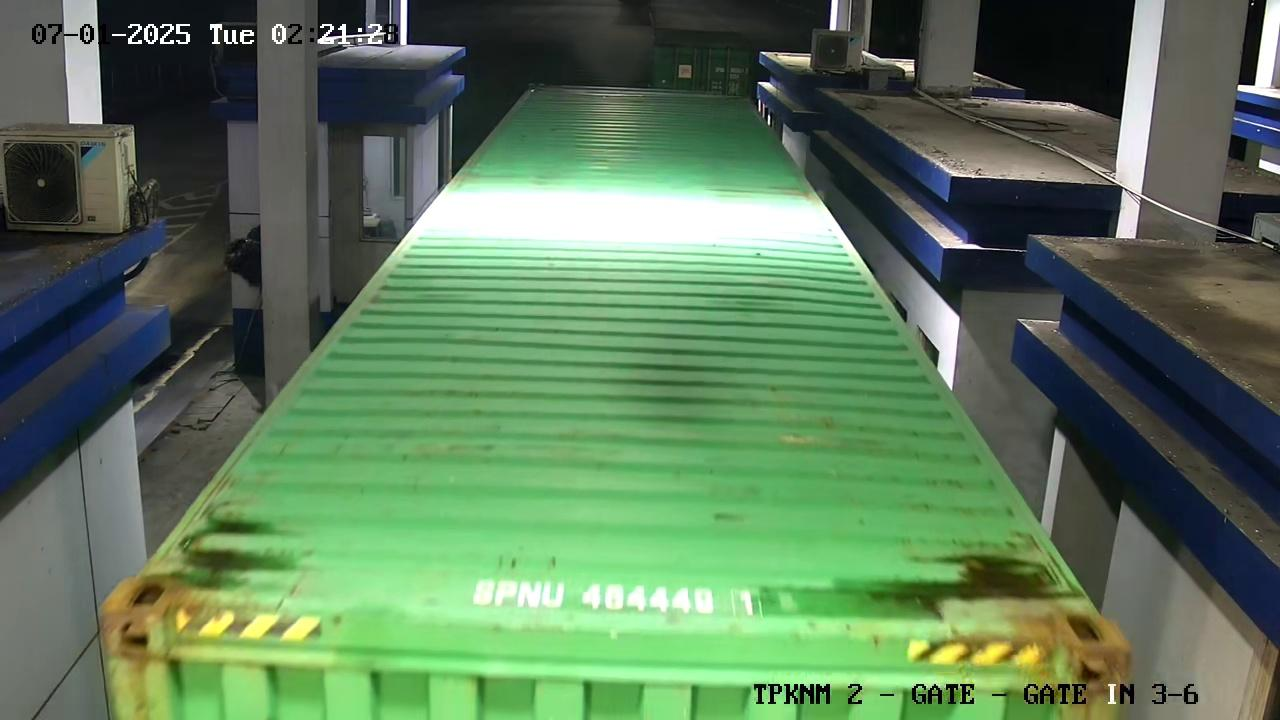Container_ID: (455, 565, 774, 631)
